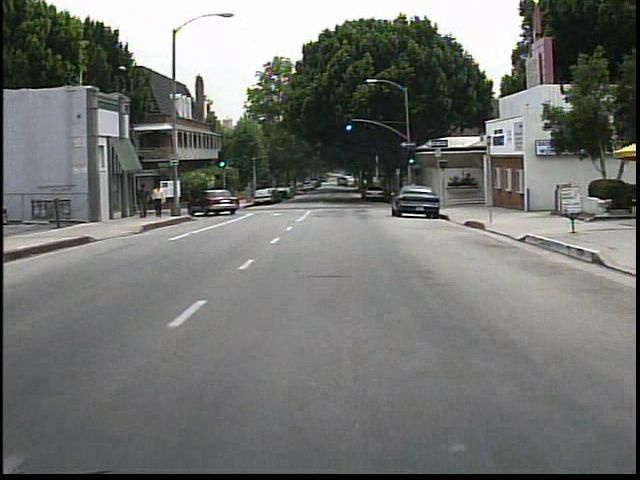person: (140, 182, 156, 219), (153, 183, 168, 220)
